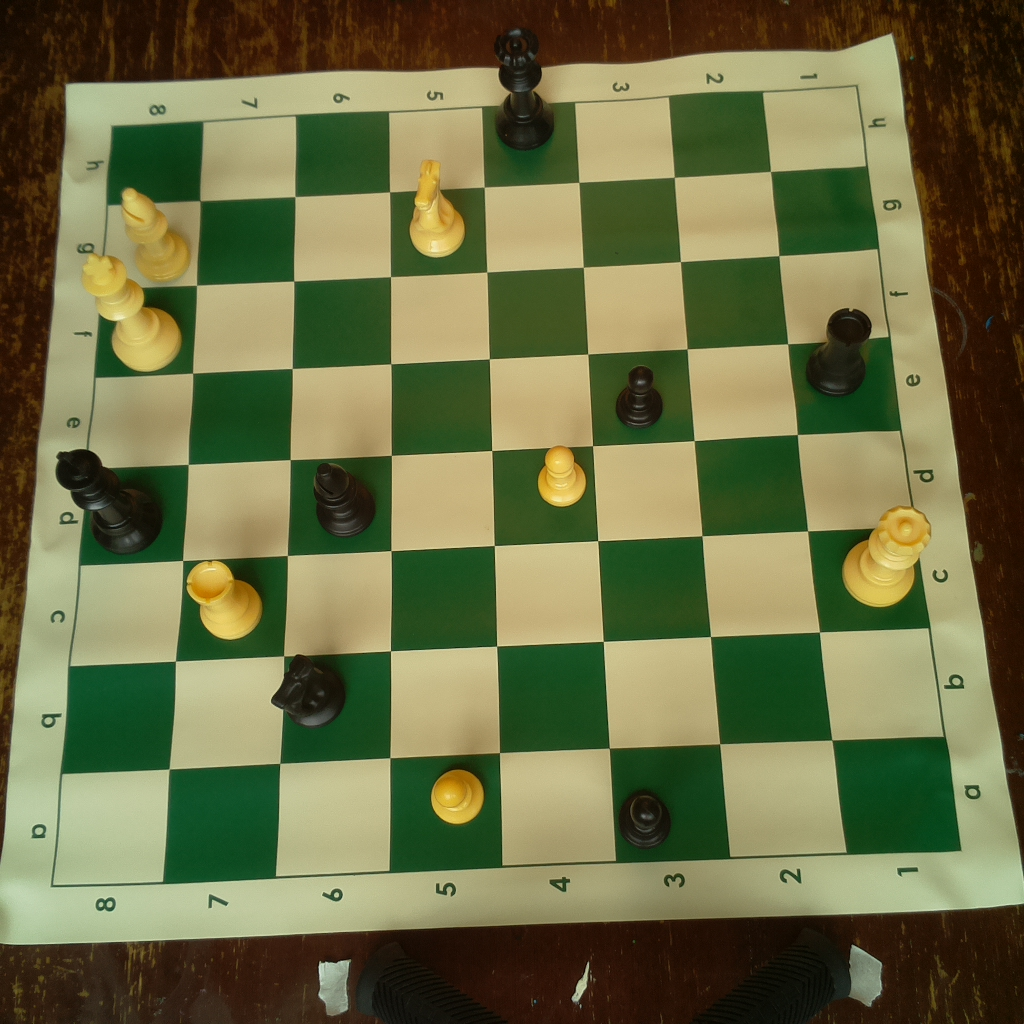black_bishop: (307, 456, 379, 544)
black_king: (46, 444, 166, 551)
black_knight: (264, 649, 349, 732)
black_pawn: (611, 361, 670, 435), (614, 784, 677, 849)
black_queen: (488, 25, 558, 153)
black_rook: (801, 301, 879, 401)
file_a: (49, 736, 963, 887)
file_b: (62, 628, 946, 773)
file_c: (68, 526, 932, 669)
file_d: (77, 430, 915, 566)
file_e: (88, 336, 899, 470)
file_f: (93, 248, 893, 382)
file_g: (93, 165, 881, 286)
file_h: (110, 86, 868, 208)
outline: (51, 87, 962, 884)
rank_1: (762, 86, 962, 858)
rank_2: (668, 91, 847, 857)
rank_3: (575, 99, 732, 861)
rank_4: (483, 101, 618, 869)
rank_5: (390, 108, 505, 874)
rank_6: (272, 112, 389, 877)
rank_7: (160, 117, 296, 883)
rank_8: (51, 121, 205, 886)
white_bishop: (116, 182, 194, 286)
white_king: (79, 247, 185, 374)
white_knight: (403, 156, 470, 260)
white_pawn: (533, 441, 594, 512), (423, 764, 488, 828)
white_queen: (833, 500, 934, 610)
white_rook: (183, 557, 268, 641)
